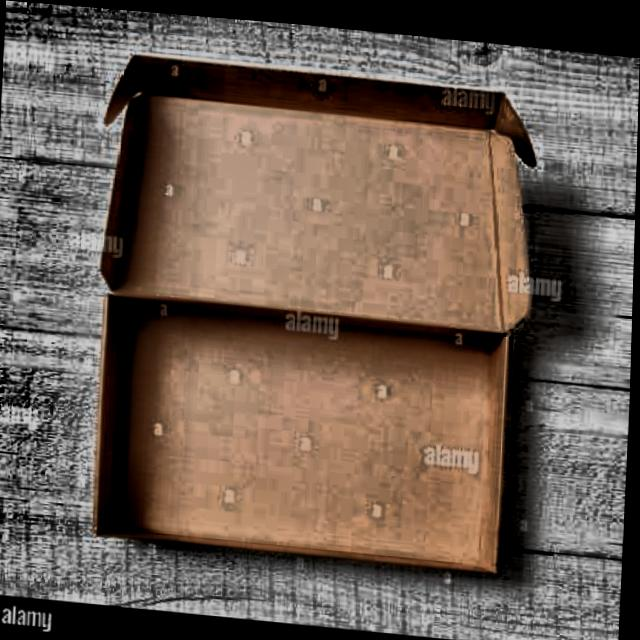Cardbox: (80, 24, 555, 603)
